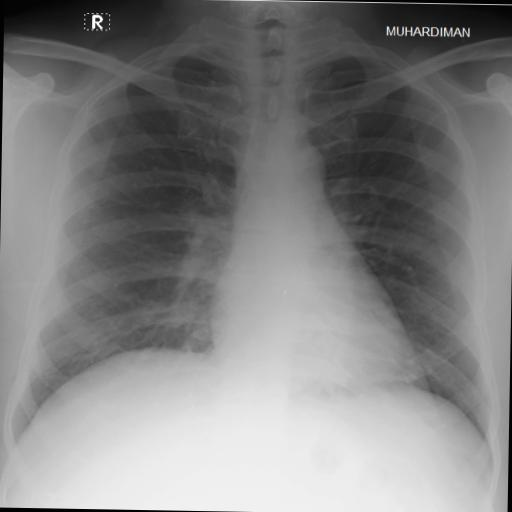normal: (2, 12, 512, 478)
